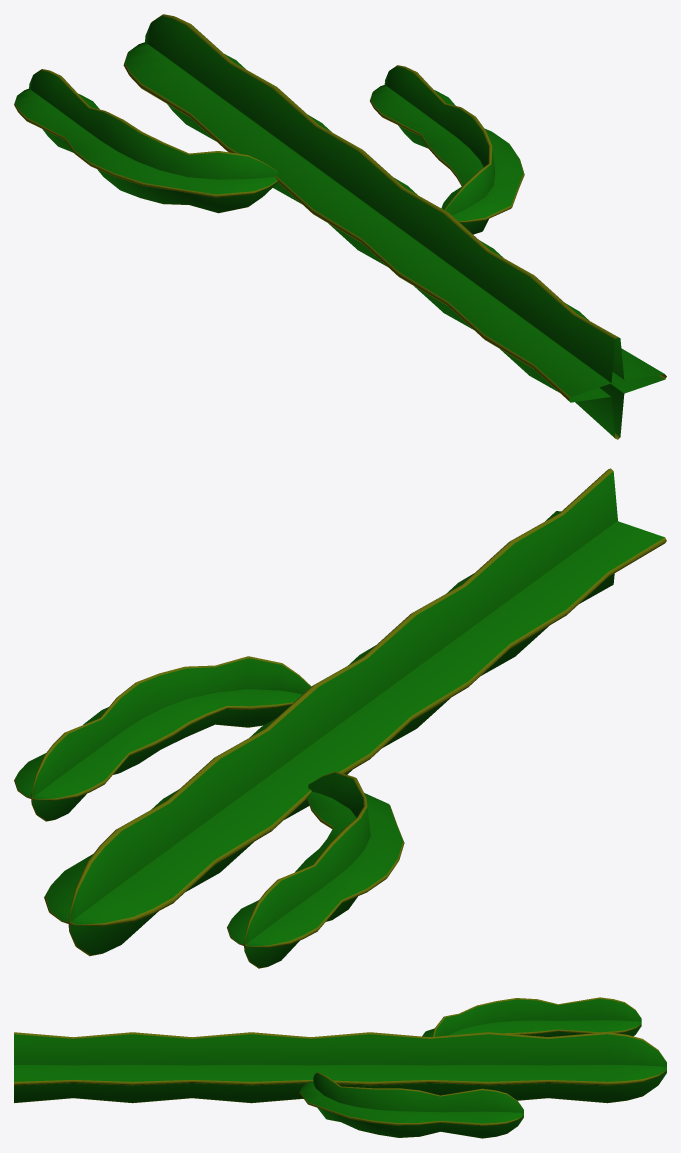
The model's file is Cactus_02_LOD0.fbx.
3 views of the same model, one above another, from view 1: azimuth 30°, elevation 25°; view 2: azimuth 150°, elevation 25°; view 3: azimuth 270°, elevation 25° (orthographic). The views are drawn at different scales.
Visible parts, largest first — view 1: LP_Cactus_02_LOD0; view 2: LP_Cactus_02_LOD0; view 3: LP_Cactus_02_LOD0.
Boxes of the visible parts, box(x1,y1,x2,y2) form: LP_Cactus_02_LOD0: box(14, 14, 666, 439); LP_Cactus_02_LOD0: box(14, 468, 666, 968); LP_Cactus_02_LOD0: box(14, 997, 666, 1138).
Bounding box in the file's own units: 1.25 × 0.36 × 3.
